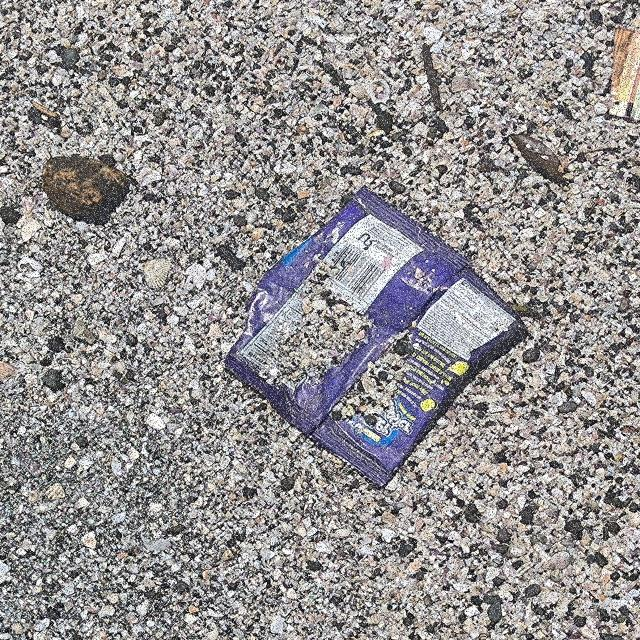plastic_waste: (223, 185, 530, 489)
